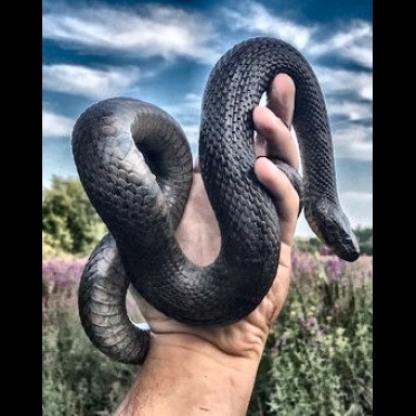Snake: (55, 39, 350, 366)
